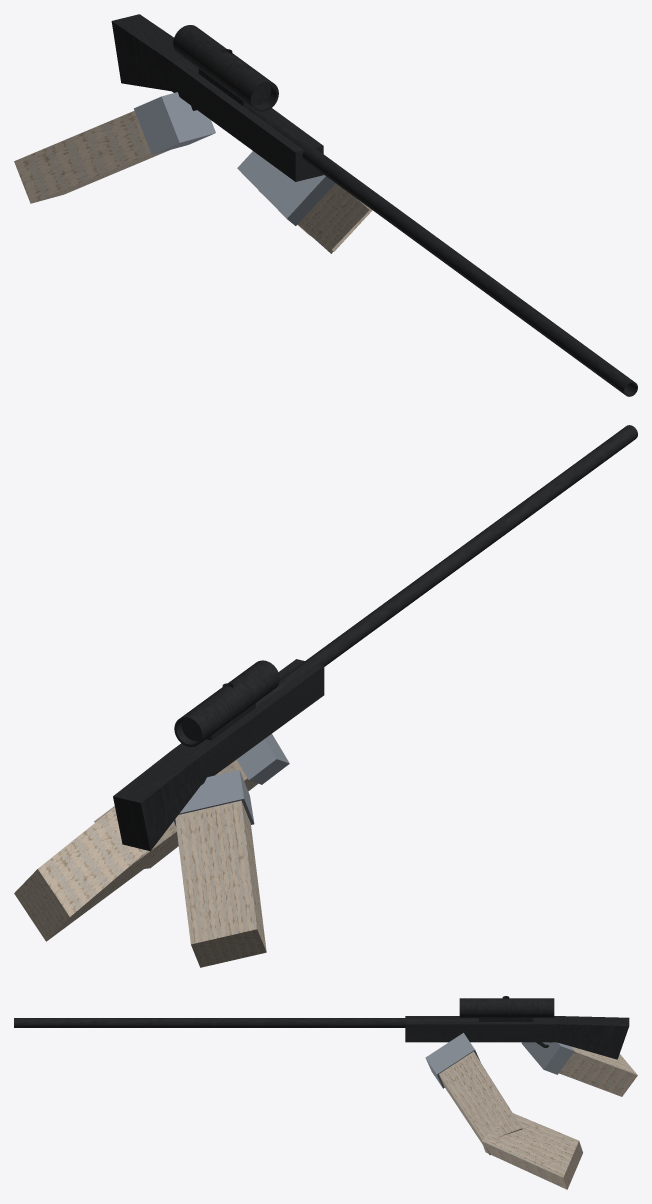
File: sniper.glb
3 renders of one model, top to bottom at view 1: azimuth 30°, elevation 25°; view 2: azimuth 150°, elevation 25°; view 3: azimuth 270°, elevation 25°, orthographic. The views are drawn at different scales.
Visible parts, largest first — view 1: Cube, Cube.278, Cube.276, Cube.275, Cube.277, Cube.270, Cube.271; view 2: Cube.276, Cube, Cube.280, Cube.278, Cube.275, Cube.277, Cube.270, Cube.271; view 3: Cube, Cube.278, Cube.280, Cube.271, Cube.276, Cube.275, Cube.270, Cube.277.
Part boxes in pixels (x1=…): Cube: x1=111, y1=14, x2=637, y2=396; Cube.278: x1=244, y1=103, x2=633, y2=394; Cube.276: x1=14, y1=110, x2=169, y2=203; Cube.275: x1=173, y1=25, x2=278, y2=111; Cube.277: x1=134, y1=92, x2=215, y2=154; Cube.270: x1=237, y1=151, x2=335, y2=225; Cube.271: x1=298, y1=183, x2=369, y2=253; Cube.276: x1=175, y1=800, x2=266, y2=967; Cube: x1=113, y1=659, x2=324, y2=851; Cube.280: x1=14, y1=807, x2=147, y2=941; Cube.278: x1=256, y1=425, x2=637, y2=706; Cube.275: x1=174, y1=660, x2=279, y2=747; Cube.277: x1=174, y1=770, x2=254, y2=826; Cube.270: x1=236, y1=734, x2=289, y2=784; Cube.271: x1=94, y1=759, x2=257, y2=870; Cube: x1=405, y1=1016, x2=629, y2=1059; Cube.278: x1=14, y1=1018, x2=478, y2=1027; Cube.280: x1=481, y1=1113, x2=582, y2=1189; Cube.271: x1=439, y1=1051, x2=522, y2=1154; Cube.276: x1=559, y1=1046, x2=637, y2=1096; Cube.275: x1=459, y1=996, x2=554, y2=1021; Cube.270: x1=425, y1=1033, x2=480, y2=1088; Cube.277: x1=521, y1=1042, x2=574, y2=1074.
Bounding box in the file's own units: 1.01 × 0.842 × 3.1.
Materials: 6 (4 with a texture image).
